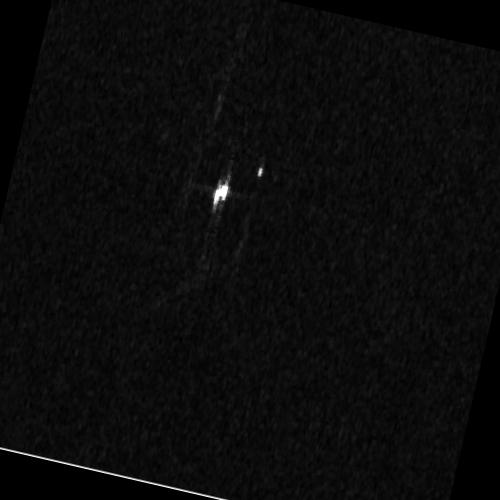ship: (212, 180, 229, 209)
